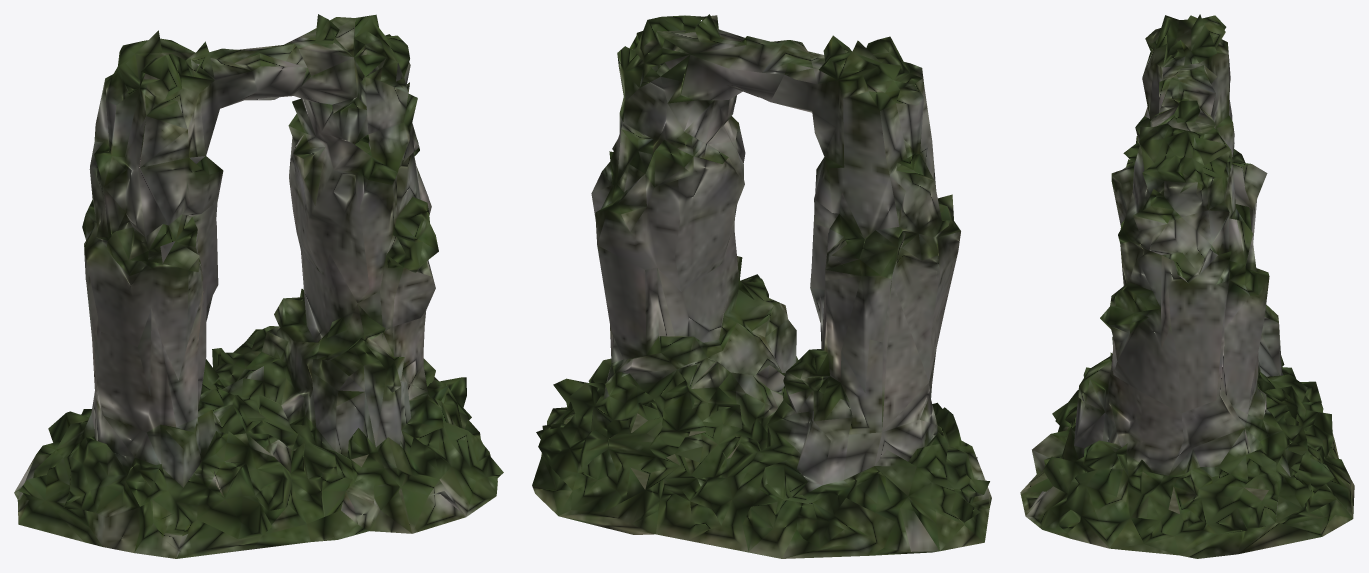
File: av_arch_xfar.glb
3 renders of one model, left to right at view 1: azimuth 30°, elevation 25°; view 2: azimuth 150°, elevation 25°; view 3: azimuth 270°, elevation 25°, orthographic. The views are drawn at different scales.
Visible parts, largest first — view 1: av_arch; view 2: av_arch; view 3: av_arch.
Part boxes in pixels (x1,y1,x2,y2): av_arch: (14,14,503,558); av_arch: (532,14,991,558); av_arch: (1020,14,1354,558).
Bounding box in the file's own units: 1.87 × 1.89 × 1.39.
1 material, 1 textured.
